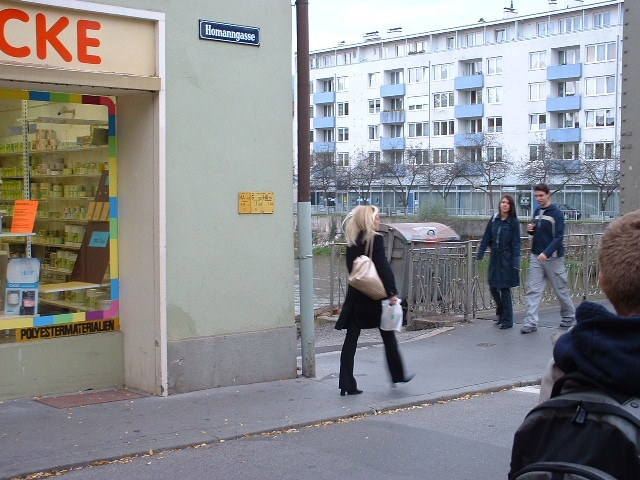person: (335, 204, 411, 394), (518, 186, 577, 333), (473, 188, 524, 330)
